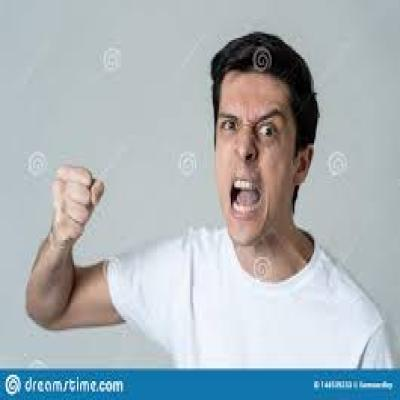angry: (212, 60, 300, 234)
